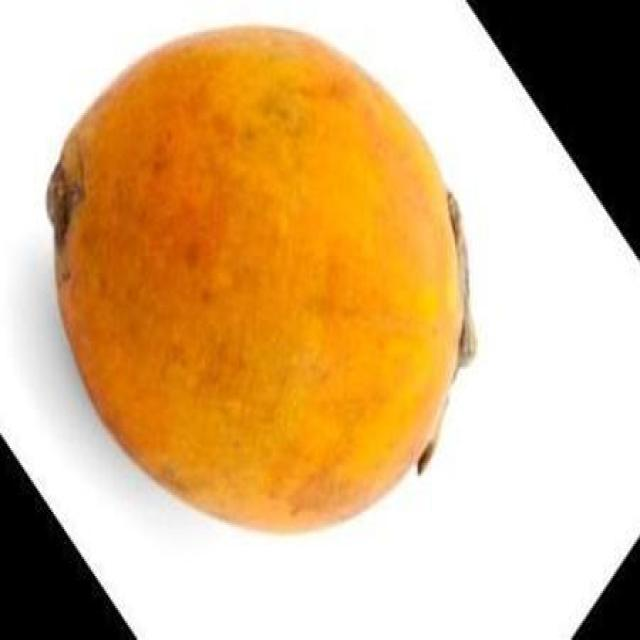good: (43, 26, 466, 538)
